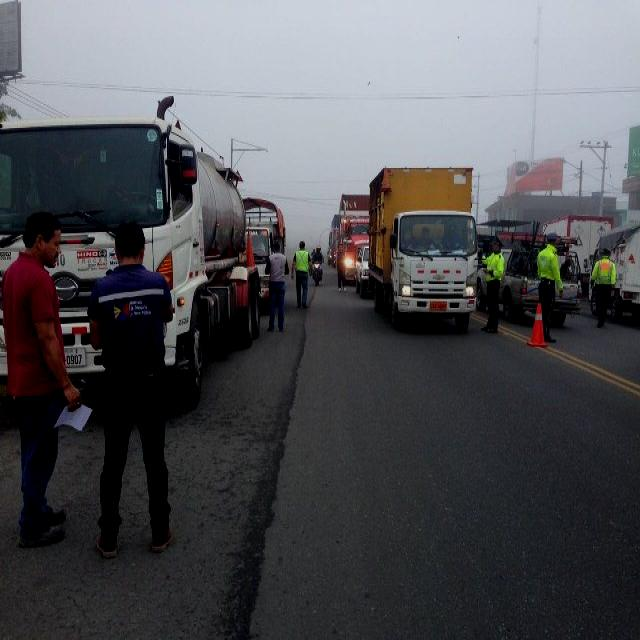TRUCK: (2, 90, 255, 426), (367, 167, 483, 337)
